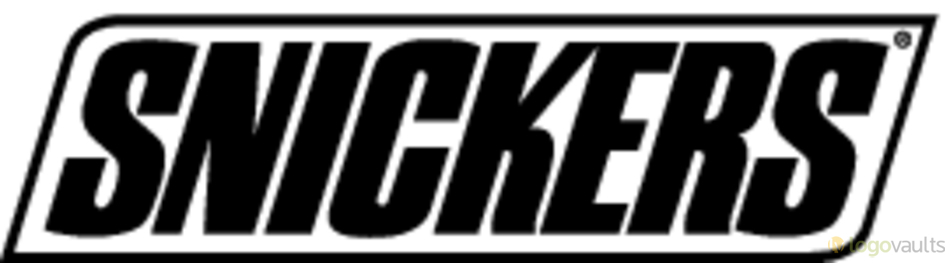snickers: (42, 37, 894, 239)
